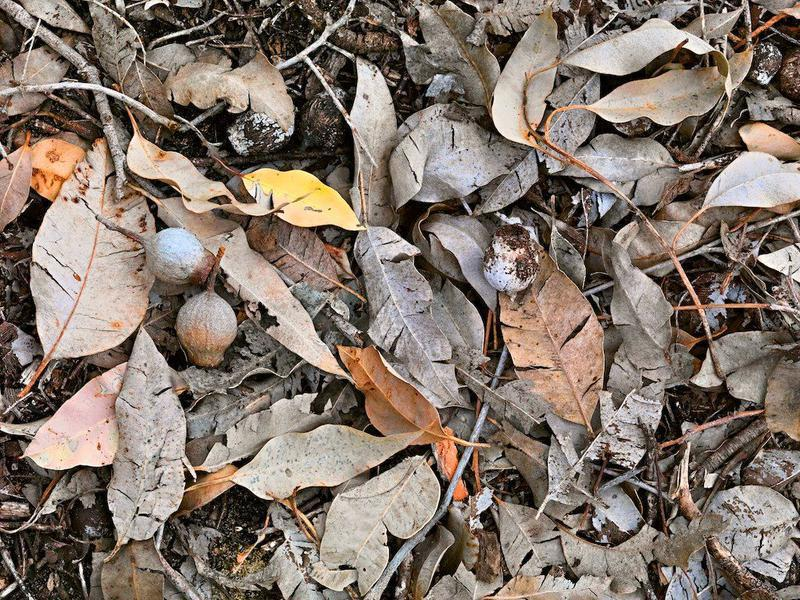leaf: (18, 125, 160, 403), (102, 101, 293, 225), (103, 324, 189, 564), (328, 330, 494, 451), (306, 453, 444, 595), (213, 423, 424, 506), (473, 2, 568, 165), (211, 149, 370, 242), (595, 217, 689, 373)
